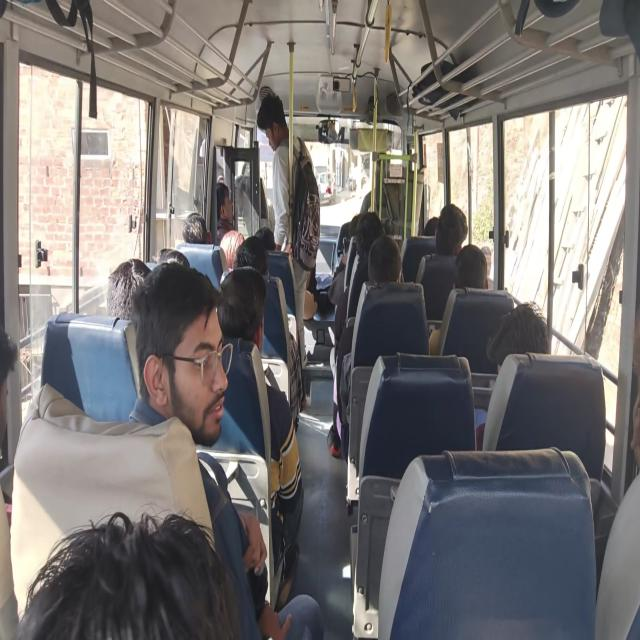person: (25, 520, 225, 640), (134, 281, 226, 429), (257, 89, 305, 272), (487, 301, 551, 370), (217, 265, 267, 347), (106, 258, 150, 321), (0, 320, 16, 488), (367, 232, 404, 286), (436, 203, 468, 257), (454, 243, 489, 291), (212, 172, 239, 230), (182, 212, 210, 246)
